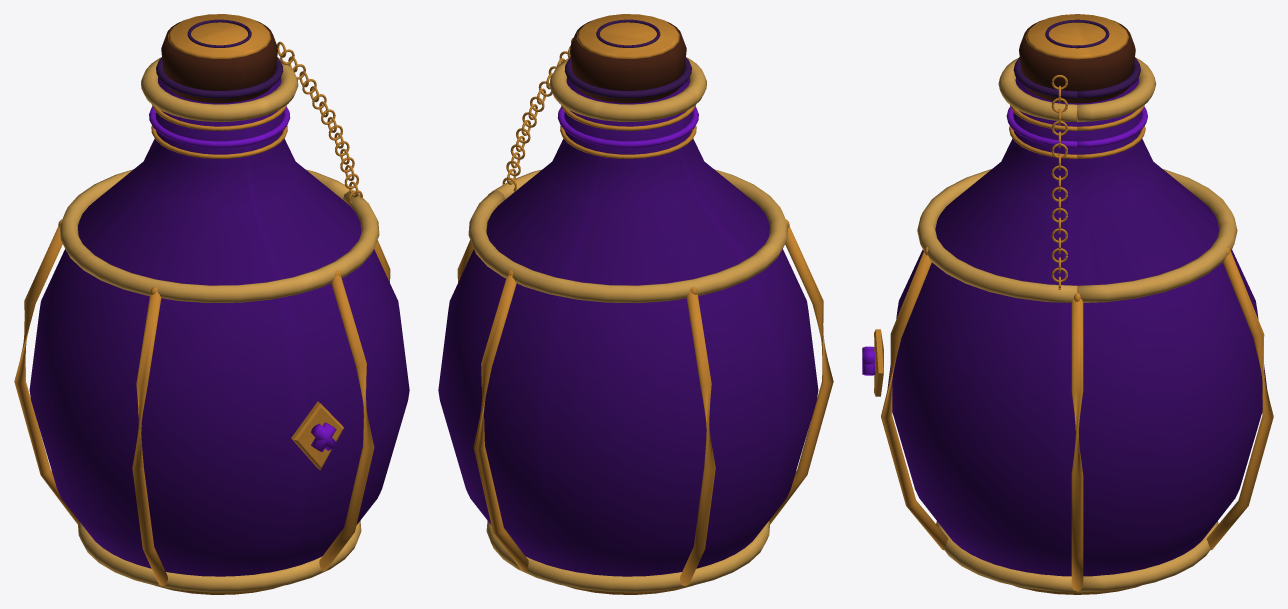
Rendered from SM_nova_flask.fbx.
3 renders of one model, left to right at view 1: azimuth 30°, elevation 25°; view 2: azimuth 150°, elevation 25°; view 3: azimuth 270°, elevation 25°, orthographic.
Visible parts, largest first — view 1: SM_nova_flask; view 2: SM_nova_flask; view 3: SM_nova_flask.
Part boxes in pixels (x1=…): SM_nova_flask: x1=14, y1=14, x2=409, y2=594; SM_nova_flask: x1=438, y1=14, x2=833, y2=594; SM_nova_flask: x1=862, y1=14, x2=1273, y2=594.
Size of the model in its own units: 0.678 by 0.704 by 0.99.
